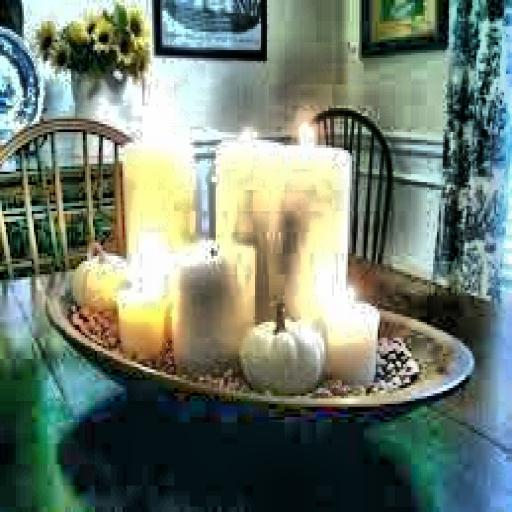fire: (293, 114, 324, 153)
